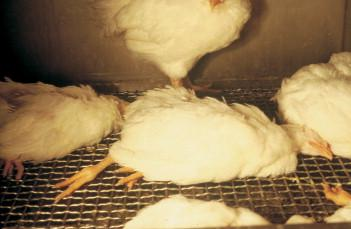AbNormal: (49, 85, 334, 203), (94, 0, 258, 90), (0, 81, 123, 181), (275, 51, 351, 168), (116, 195, 320, 229)
